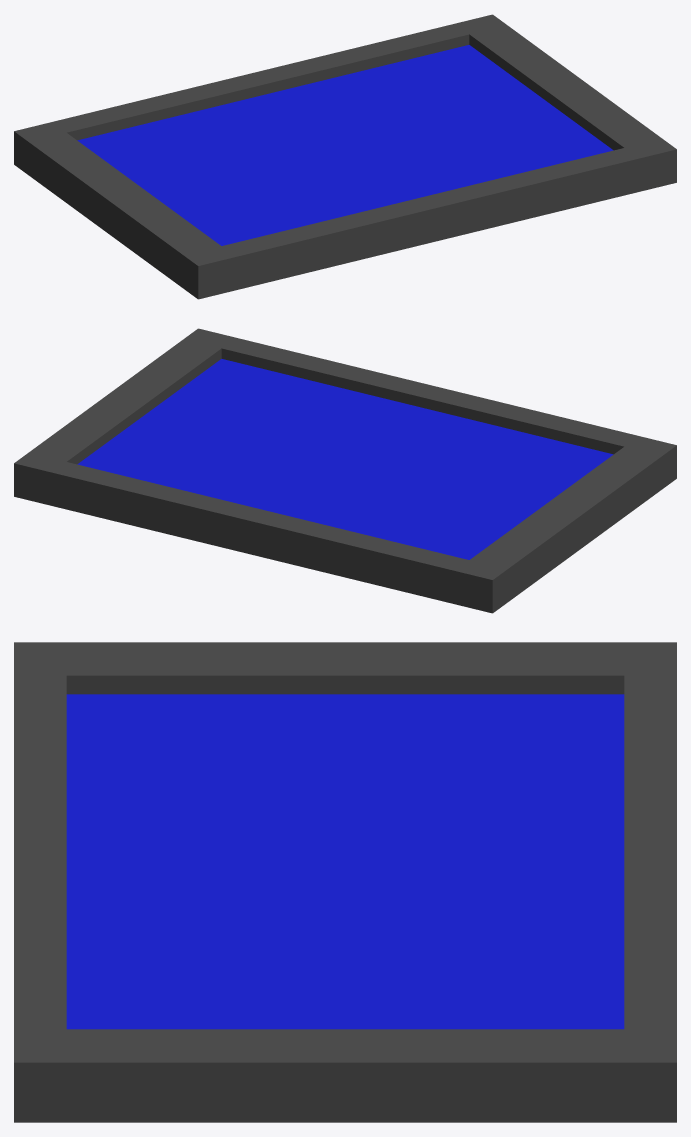
The model's file is CopiumMonitor.fbx.
3 views of the same model, one above another, from view 1: azimuth 30°, elevation 25°; view 2: azimuth 150°, elevation 25°; view 3: azimuth 270°, elevation 25° (orthographic). The views are drawn at different scales.
Parts seen in each view (by area): view 1: Cube; view 2: Cube; view 3: Cube.
Boxes of the visible parts, <box> form: Cube: <box>14,14,676,299</box>; Cube: <box>14,328,676,613</box>; Cube: <box>14,642,676,1122</box>.
Size of the model in its own units: 600 by 40 by 400.
